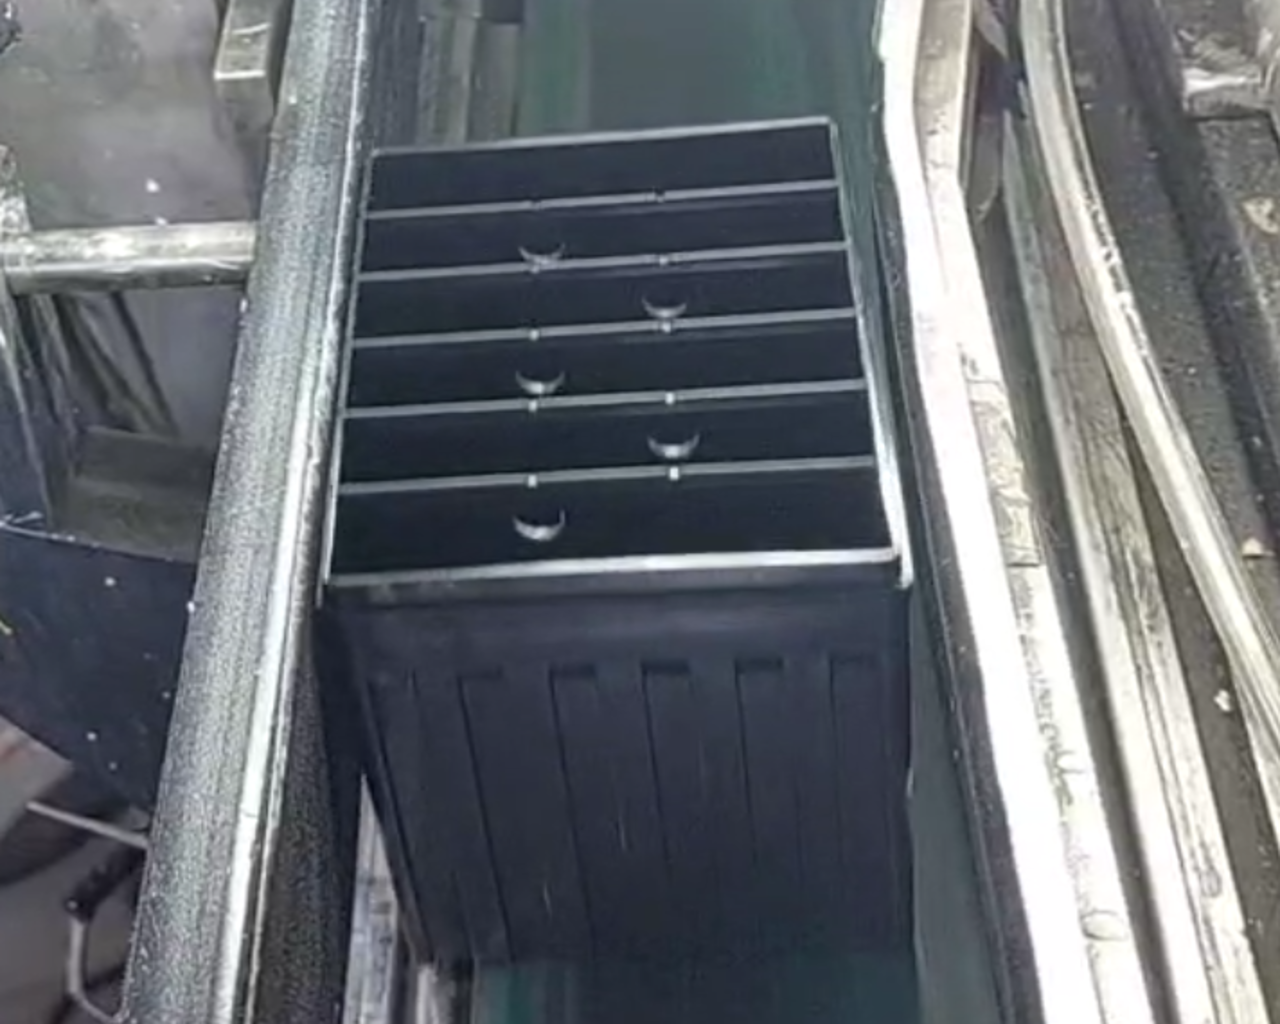box: (300, 94, 925, 625)
round: (499, 488, 579, 549), (503, 348, 577, 400), (638, 412, 711, 464), (503, 219, 571, 267), (631, 280, 697, 322)
